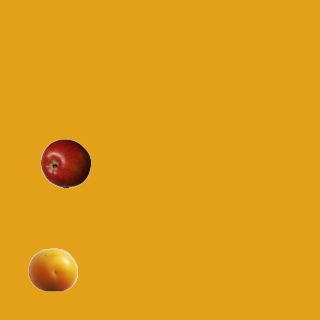Apple Braeburn: (40, 138, 90, 188)
Cherry Wax Yellow: (27, 244, 77, 294)
